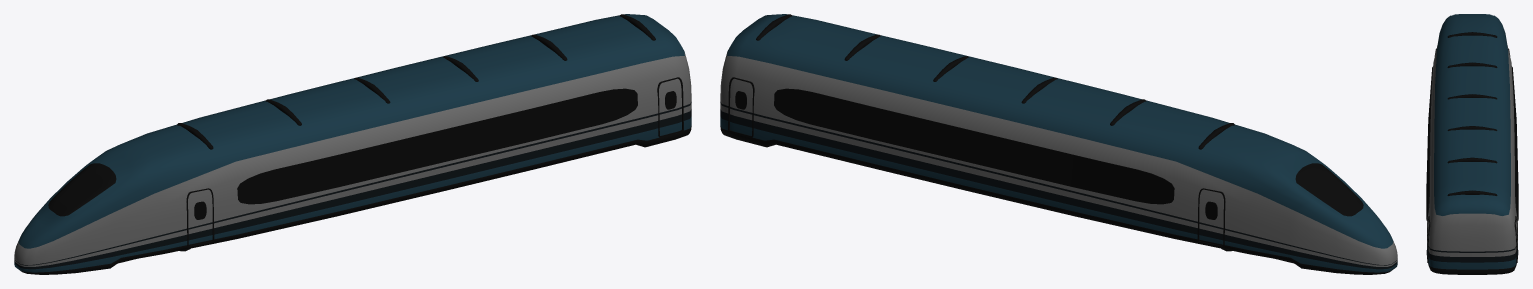
The model's file is HighSpeed_Front.obj.
3 views of the same model, side by side, from view 1: azimuth 30°, elevation 25°; view 2: azimuth 150°, elevation 25°; view 3: azimuth 270°, elevation 25° (orthographic). The views are drawn at different scales.
Parts seen in each view (by area): view 1: HighspeedTrain_Front_Cube; view 2: HighspeedTrain_Front_Cube; view 3: HighspeedTrain_Front_Cube.
Part boxes in pixels (x1=…): HighspeedTrain_Front_Cube: x1=14, y1=14, x2=691, y2=274; HighspeedTrain_Front_Cube: x1=720, y1=14, x2=1397, y2=274; HighspeedTrain_Front_Cube: x1=1426, y1=14, x2=1518, y2=274.
Size of the model in its own units: 12.16 by 1.9 by 2.03.
